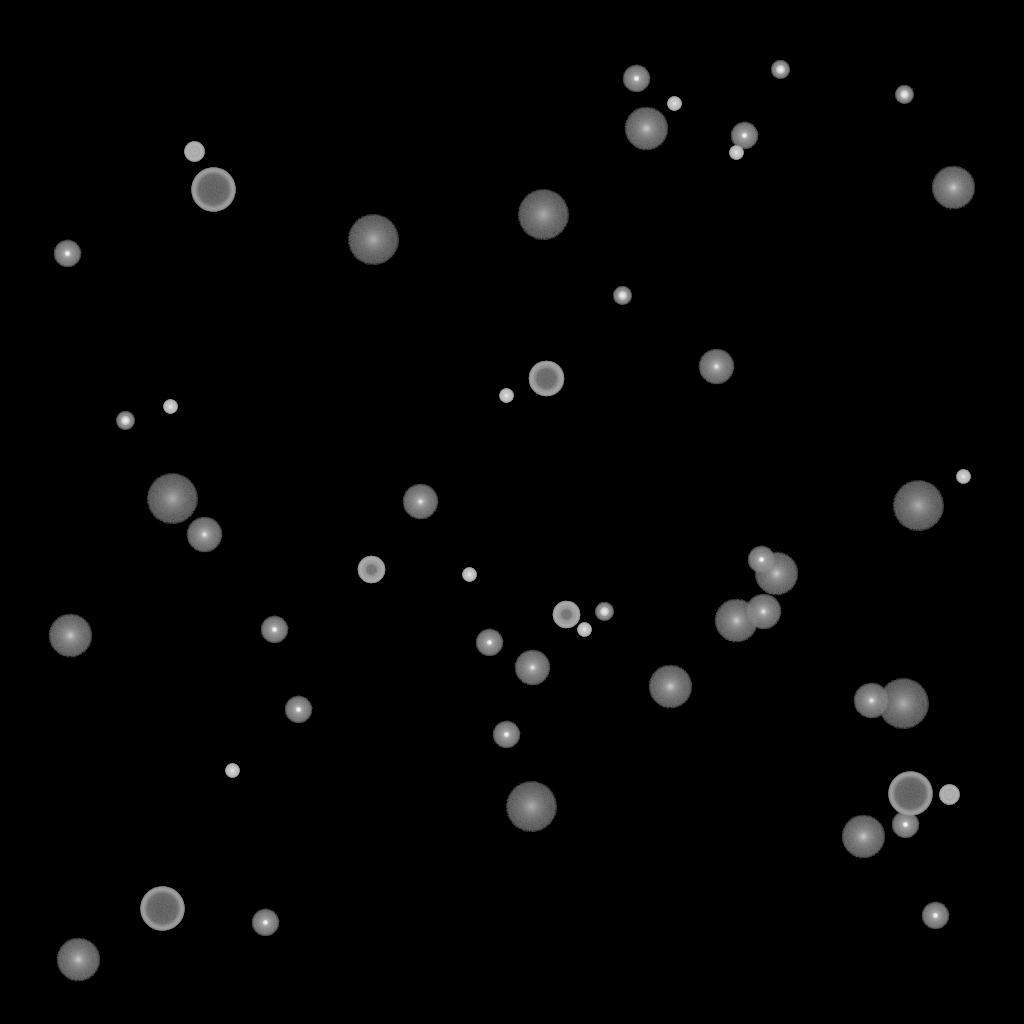depth:-10: (284, 696, 312, 724), (492, 721, 520, 749), (475, 629, 503, 657), (251, 909, 279, 937), (891, 811, 919, 839), (921, 902, 949, 930), (747, 546, 775, 574), (53, 240, 81, 268), (260, 616, 288, 644), (730, 122, 758, 150), (622, 65, 650, 93)
depth:-20: (771, 61, 789, 79), (613, 287, 631, 305), (116, 412, 134, 430), (895, 86, 913, 104), (595, 603, 613, 621)
depth:-30: (499, 389, 513, 403), (667, 97, 681, 111), (462, 568, 476, 582), (729, 146, 743, 160), (225, 764, 239, 778), (956, 470, 970, 484), (577, 623, 591, 637), (163, 400, 177, 414)
depth:-40: (184, 142, 204, 162), (939, 785, 959, 805)
depth:-50: (552, 601, 580, 629), (357, 556, 385, 584)
depth:-60: (528, 361, 564, 397)
depth:-70: (191, 168, 235, 212), (140, 887, 184, 931), (888, 772, 932, 816)
depth:0: (514, 650, 550, 686), (402, 484, 438, 520), (698, 349, 734, 385), (745, 594, 781, 630), (853, 683, 889, 719), (186, 517, 222, 553)
depth:10: (48, 614, 92, 658), (931, 166, 975, 210), (754, 552, 798, 596), (714, 599, 758, 643), (56, 938, 100, 982), (648, 665, 692, 709), (624, 107, 668, 151), (841, 815, 885, 859)
depth:20: (146, 474, 198, 524), (517, 190, 569, 240), (347, 215, 399, 265), (505, 782, 557, 832), (892, 481, 944, 531), (877, 679, 929, 729)
